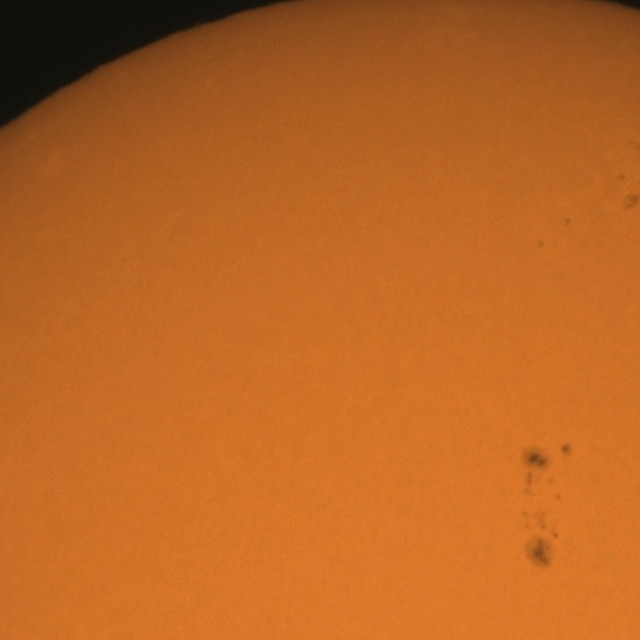sunspot: (522, 446, 569, 495), (524, 524, 560, 572), (621, 181, 640, 215), (538, 239, 546, 250), (564, 217, 572, 227)
